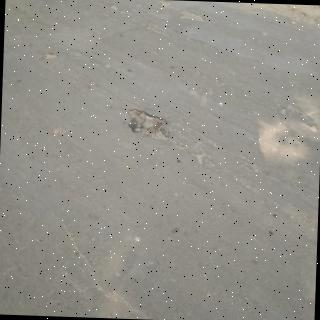pothole: (128, 110, 169, 140)
